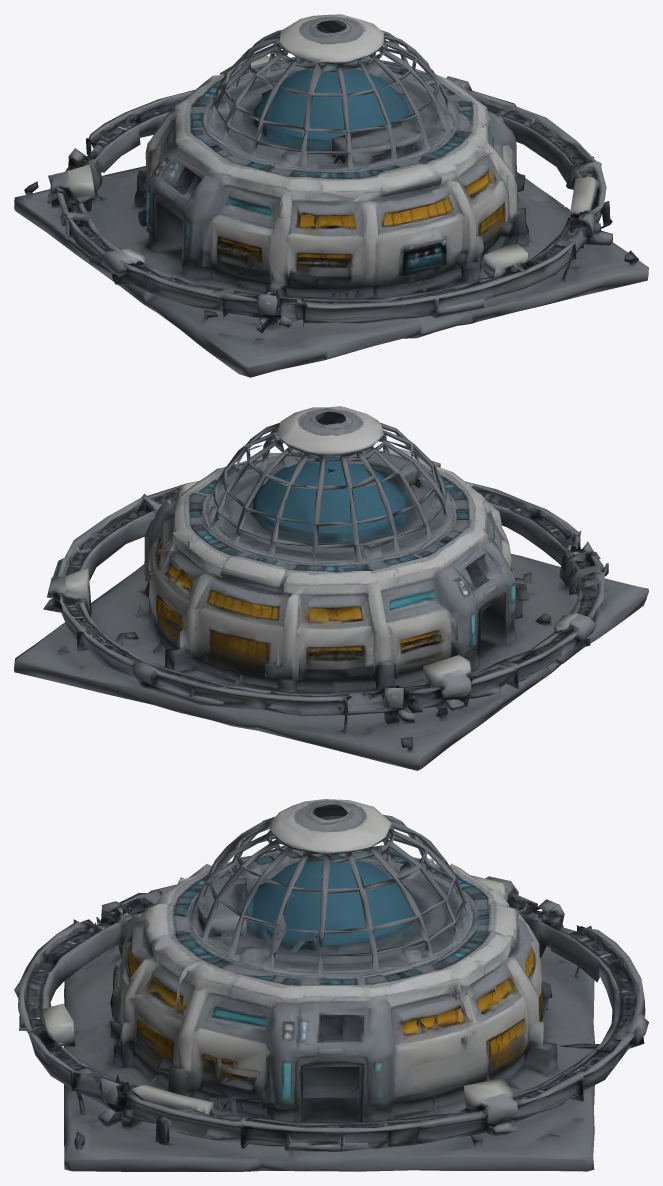
File: lab.glb
3 renders of one model, top to bottom at view 1: azimuth 30°, elevation 25°; view 2: azimuth 150°, elevation 25°; view 3: azimuth 270°, elevation 25°, orthographic. The views are drawn at different scales.
Parts seen in each view (by area): view 1: tripo_node_026daf71-7189-4fcf-960d-8a763fbd4acf; view 2: tripo_node_026daf71-7189-4fcf-960d-8a763fbd4acf; view 3: tripo_node_026daf71-7189-4fcf-960d-8a763fbd4acf.
Boxes of the visible parts, x1,y1,x2,y2 form: tripo_node_026daf71-7189-4fcf-960d-8a763fbd4acf: [14, 14, 648, 377]; tripo_node_026daf71-7189-4fcf-960d-8a763fbd4acf: [14, 406, 648, 770]; tripo_node_026daf71-7189-4fcf-960d-8a763fbd4acf: [14, 799, 648, 1171].
Bounding box in the file's own units: 1 × 0.4328 × 0.9985.
1 material, 1 textured.
